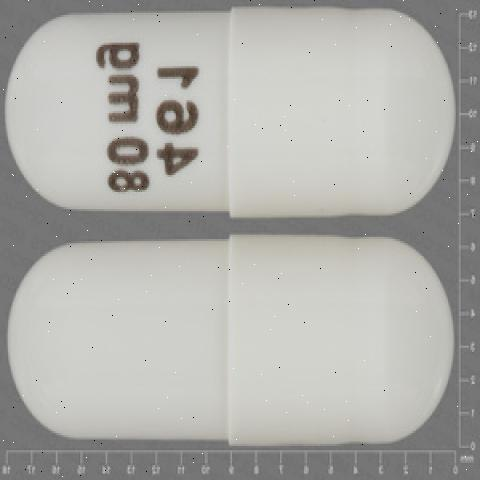Pill: (0, 226, 464, 462), (0, 6, 458, 222)
